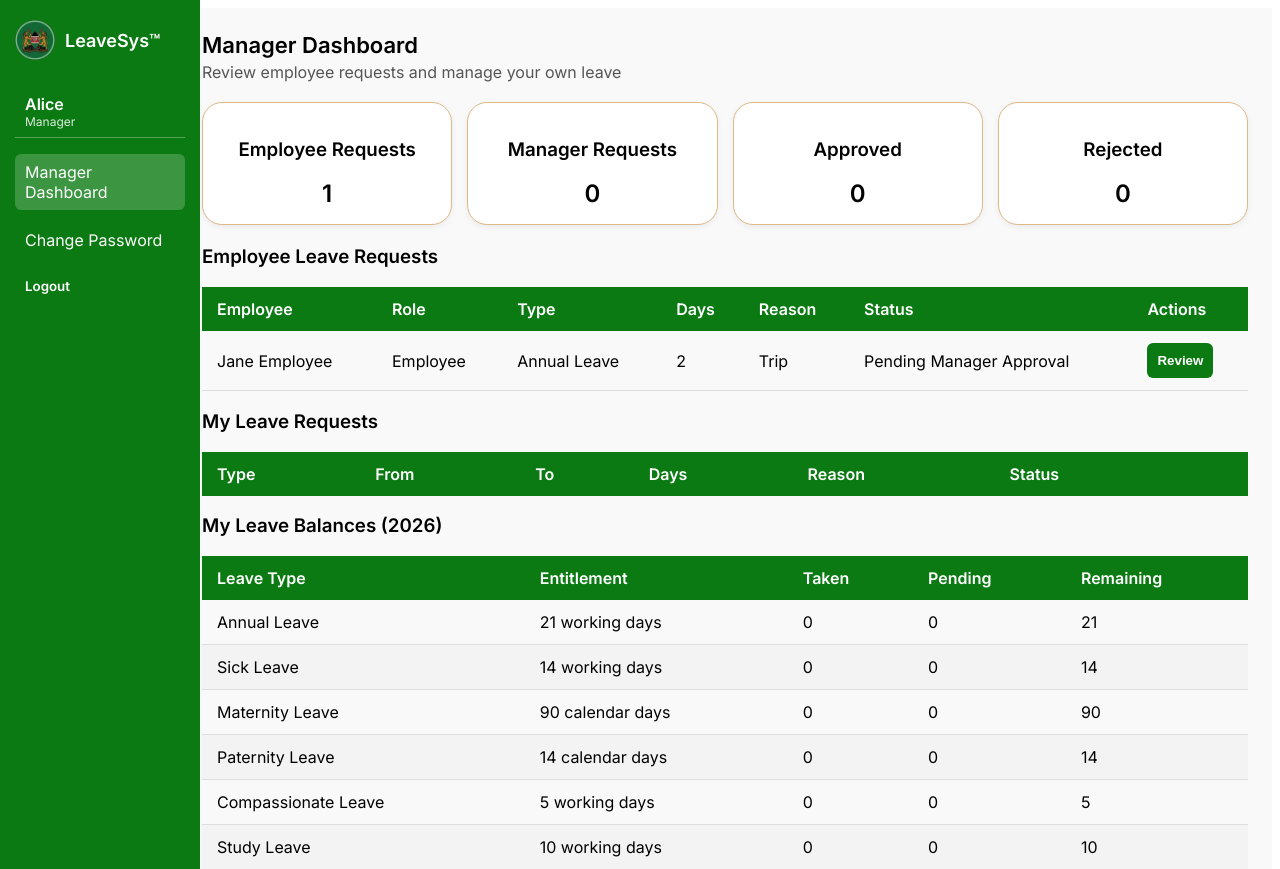
it: rejecting a request requires a reason, which is sent to the server
The width and height of the screenshot is (1280, 869).
Click the button "Review" at (1180, 361), box [1147, 343, 1213, 378]
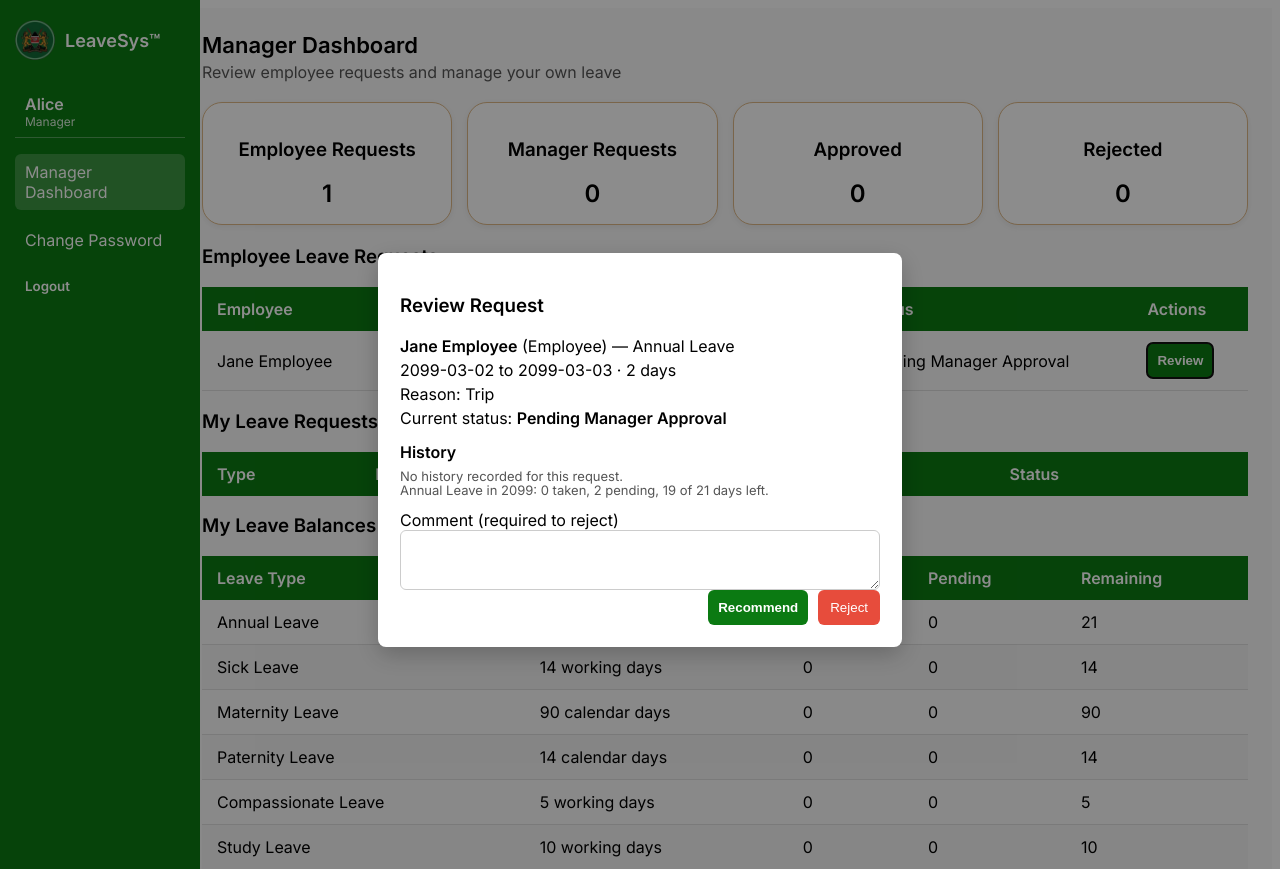
Click the button "Reject" at (849, 607), box [818, 590, 880, 625]
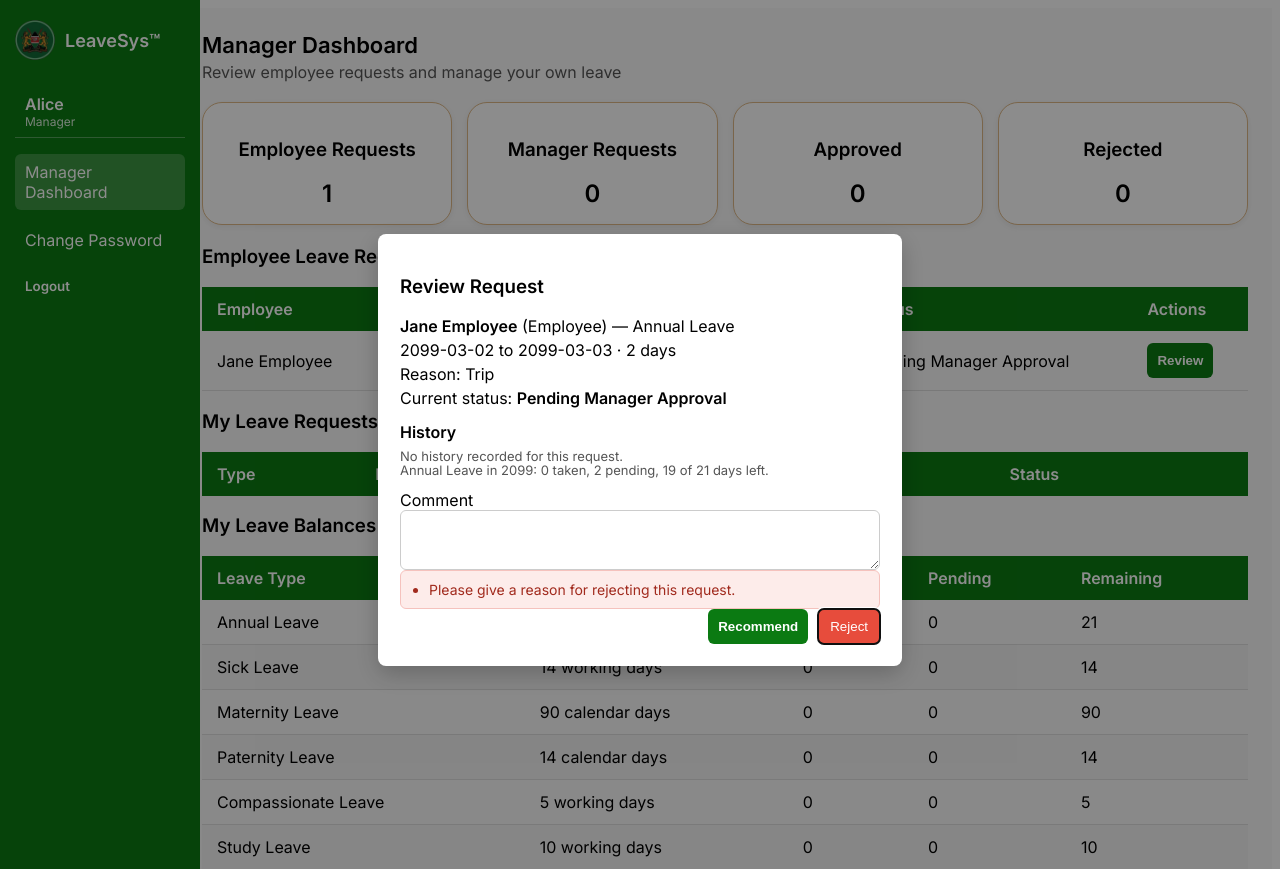
Check: the message shows "Please give a reason", box [429, 581, 735, 598]
Type "Team is short-staffed that week" into the text box at (640, 540), box [400, 510, 880, 570]
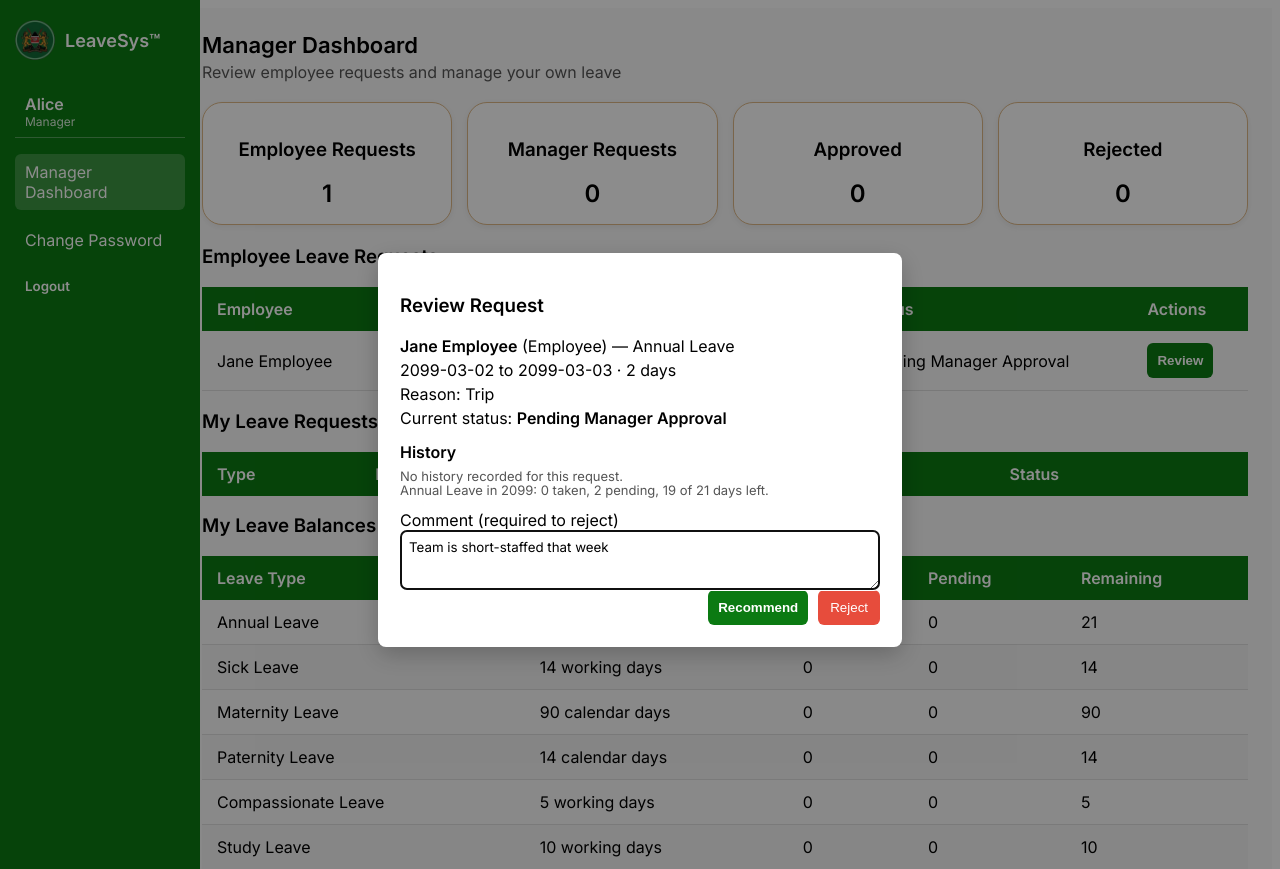
Click the button "Reject" at (849, 607), box [818, 590, 880, 625]
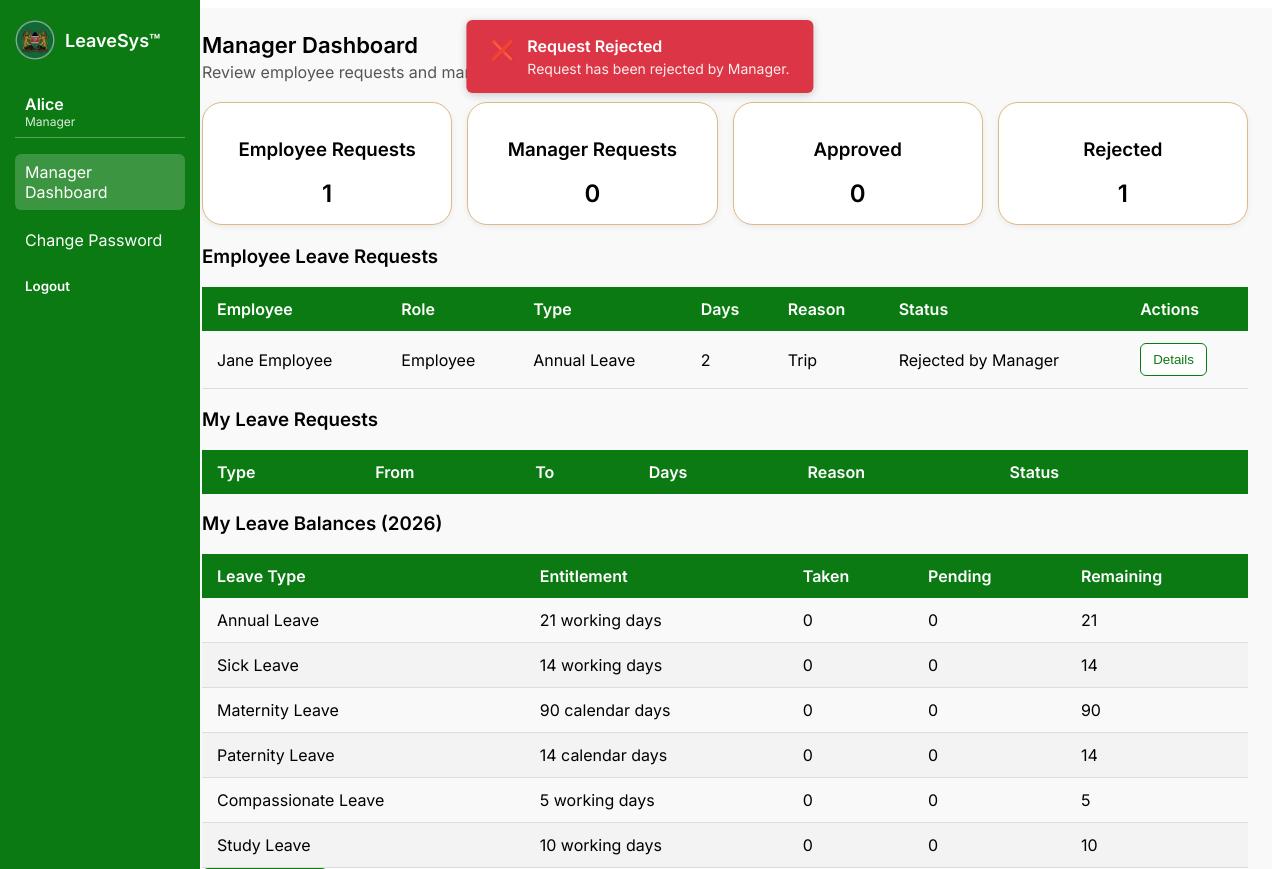
Check: the text "Request Rejected" is shown, box [527, 36, 662, 56]
Check: the text "Rejected by Manager" is shown, box [884, 331, 1125, 389]
